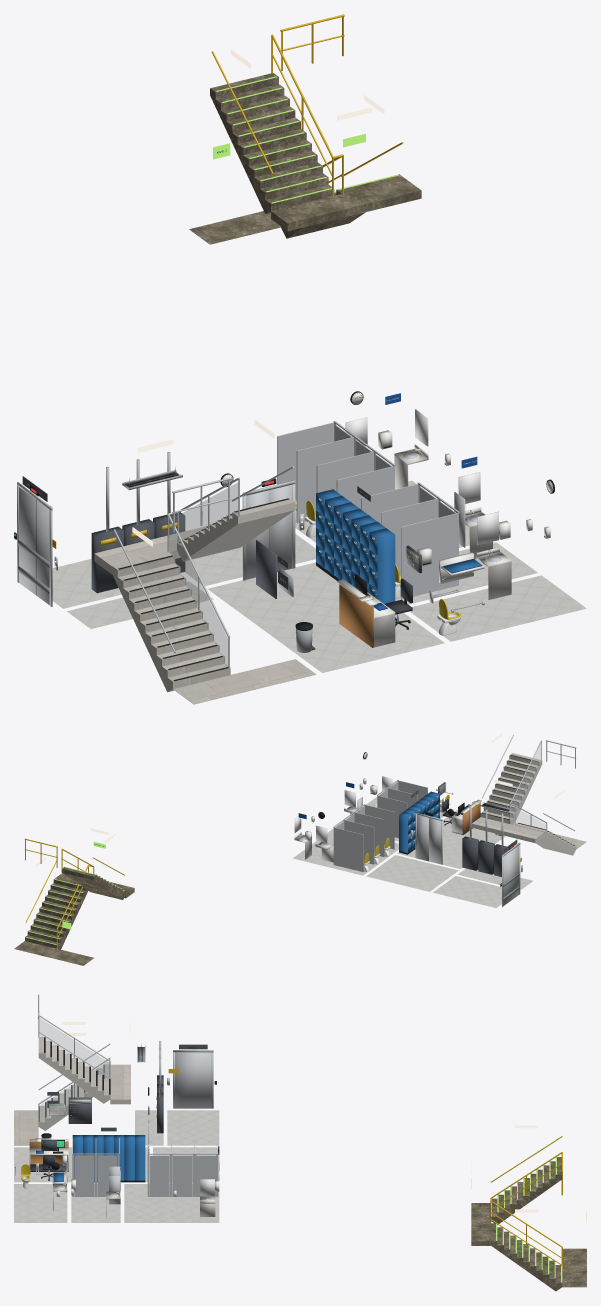
File: 25_n2_nucleo_y_escaleras.glb
3 views of the same model, one above another, from view 1: azimuth 30°, elevation 25°; view 2: azimuth 150°, elevation 25°; view 3: azimuth 270°, elevation 25° (orthographic). The views are drawn at different scales.
Parts seen in each view (by area): view 1: escalera de dos tramos.001, escalera de dos tramos.003, piso · Vestíbulo de elevador.001, mamparas de sanitario.002, mamparas de sanitario.003, piso · Sanitario neutro.001, lavabo_ceramica (×3), puertas_montacargas, puertas_elevador_120, lockers_visitantes (×2), mostrador_lockers, piso de llegada (+8 smaller); view 2: escalera de dos tramos.001, escalera de dos tramos.003, mamparas de sanitario.002, piso · Elevador.001, tablero_electrico (×3), puertas_elevador_120, piso · Montacargas.001, piso · Vestíbulo de elevador.001, mamparas de sanitario.003, puertas_montacargas, piso · Sanitarios · mujeres.001, piso de llegada.001 (+4 smaller); view 3: escalera de dos tramos.003, escalera de dos tramos.001, mamparas de sanitario.002, piso · Sanitarios · mujeres.001, puertas_montacargas, piso · Sanitario neutro.001, piso · Montacargas.001, mamparas de sanitario.003, piso · Sanitarios · hombres.001, lockers_visitantes (×2), piso de llegada.001, piso · Vestíbulo de elevador.001 (+7 smaller).
Boxes of the visible parts, x1,y1,x2,y2 form: escalera de dos tramos.001: [94, 419, 295, 692]; escalera de dos tramos.003: [210, 14, 421, 238]; piso · Vestíbulo de elevador.001: [208, 562, 444, 672]; mamparas de sanitario.002: [277, 421, 395, 523]; mamparas de sanitario.003: [361, 482, 459, 599]; piso · Sanitario neutro.001: [410, 575, 586, 641]; lavabo_ceramica (×3): [394, 409, 511, 599]; puertas_montacargas: [17, 482, 57, 606]; puertas_elevador_120: [242, 478, 304, 580]; lockers_visitantes (×2): [333, 502, 395, 603]; mostrador_lockers: [337, 574, 395, 647]; piso de llegada: [173, 659, 316, 704]; escalera de dos tramos.001: [471, 733, 576, 855]; escalera de dos tramos.003: [24, 828, 134, 949]; mamparas de sanitario.002: [333, 804, 394, 872]; piso · Elevador.001: [366, 855, 458, 891]; tablero_electrico (×3): [462, 805, 509, 876]; puertas_elevador_120: [410, 812, 442, 864]; piso · Montacargas.001: [433, 876, 501, 907]; piso · Vestíbulo de elevador.001: [397, 810, 514, 869]; mamparas de sanitario.003: [377, 779, 427, 838]; puertas_montacargas: [502, 842, 522, 907]; piso · Sanitarios · mujeres.001: [293, 828, 398, 875]; piso de llegada.001: [14, 941, 93, 965]; escalera de dos tramos.003: [471, 1125, 562, 1291]; escalera de dos tramos.001: [38, 994, 130, 1130]; mamparas de sanitario.002: [147, 1138, 218, 1196]; piso · Sanitarios · mujeres.001: [124, 1184, 219, 1222]; puertas_montacargas: [167, 1047, 213, 1108]; piso · Sanitario neutro.001: [14, 1184, 67, 1222]; piso · Montacargas.001: [167, 1110, 219, 1145]; mamparas de sanitario.003: [72, 1138, 119, 1196]; piso · Sanitarios · hombres.001: [71, 1184, 120, 1222]; lockers_visitantes (×2): [124, 1135, 145, 1182]; piso de llegada.001: [562, 1248, 586, 1287]; piso · Vestíbulo de elevador.001: [14, 1147, 147, 1182].
Bounding box in the file's own units: 16.3 × 5.43 × 22.05.
Materials: 48 (9 with a texture image).
